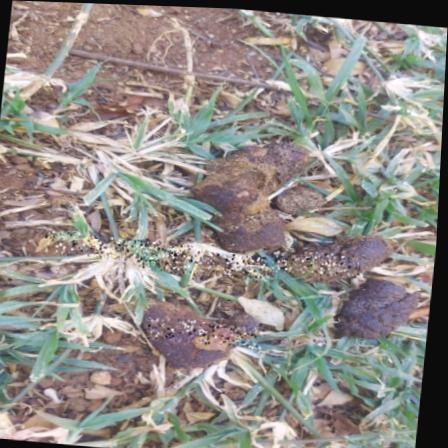dog-poop: (207, 128, 343, 246), (132, 298, 262, 374), (285, 211, 391, 295), (340, 278, 418, 342)
